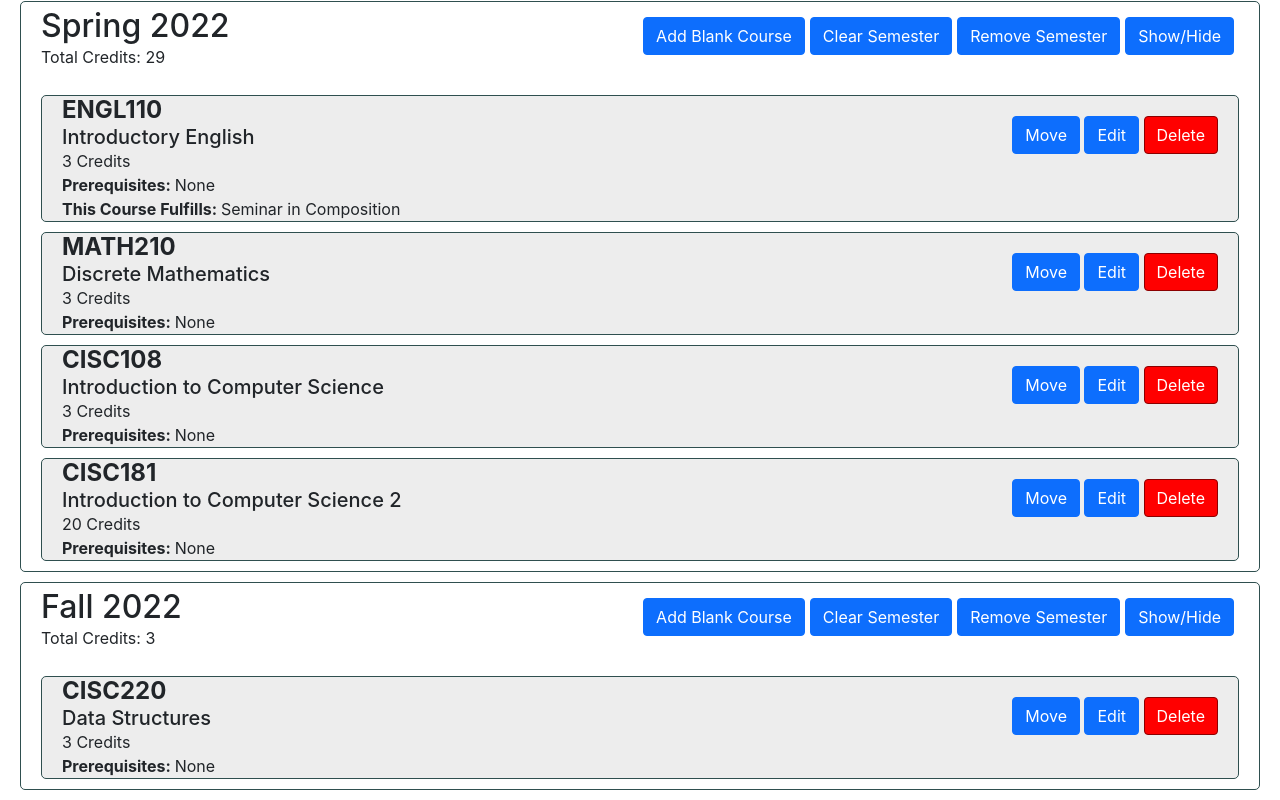
Test: Planner Tests › Check to get the modal for moving at the bottom
(page scrolled)
Click the button with test id "move-course-button" in the row of "Data Structures".
click(1046, 716)  # box x1=1012 y1=697 x2=1080 y2=735
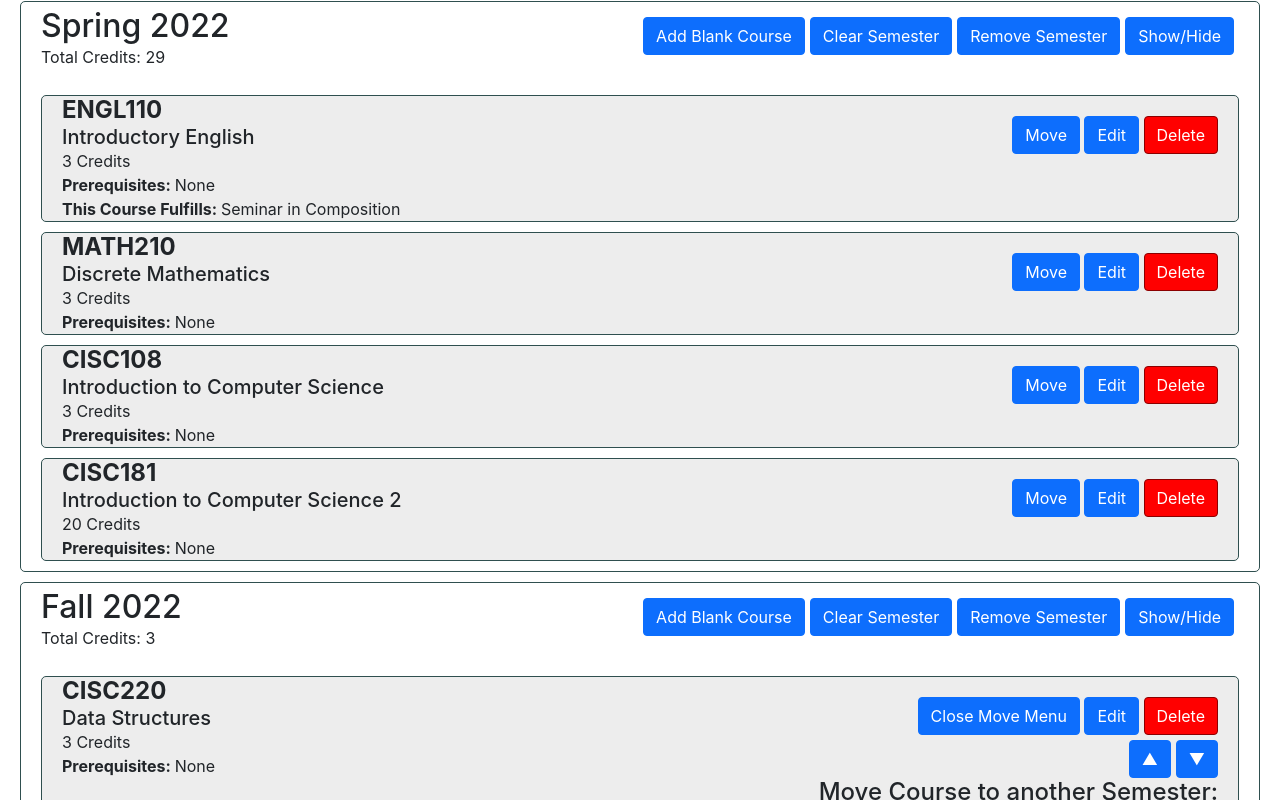
Click the button with test id "move-course-down-button".
click(1197, 759)  # box x1=1176 y1=740 x2=1218 y2=778
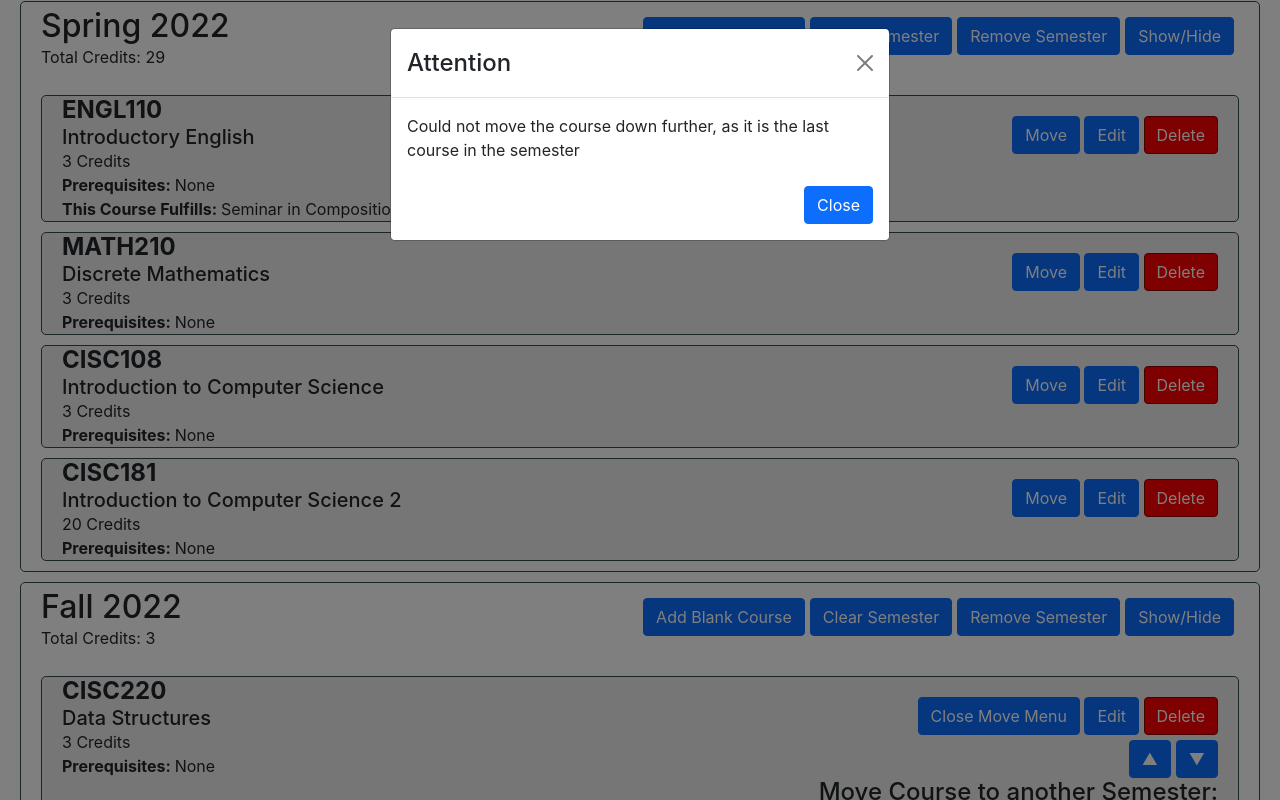
Result: the text "Could not move the course down further, as it is the last course in the semester" is shown at x1=407 y1=116 x2=829 y2=160
